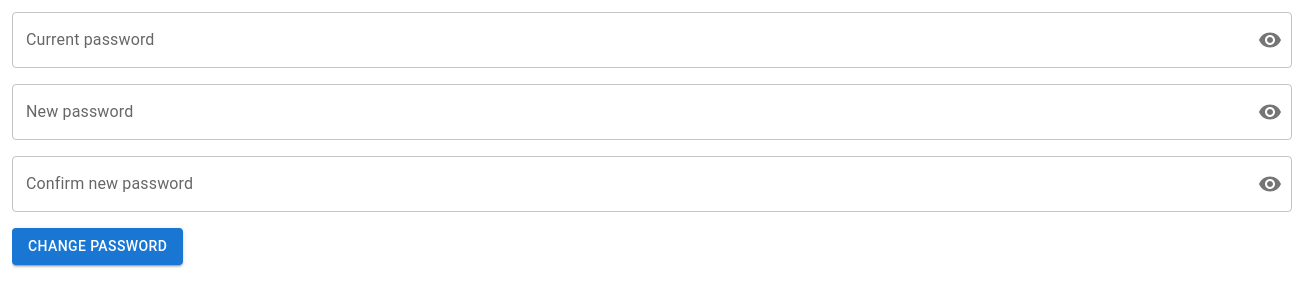
it: ChangePasswordForm › rejects a new password equal to the current one
The width and height of the screenshot is (1304, 307).
Type "same-password" into the password field labelled "Current password" at [627, 40], box 12,12 -> 1242,68
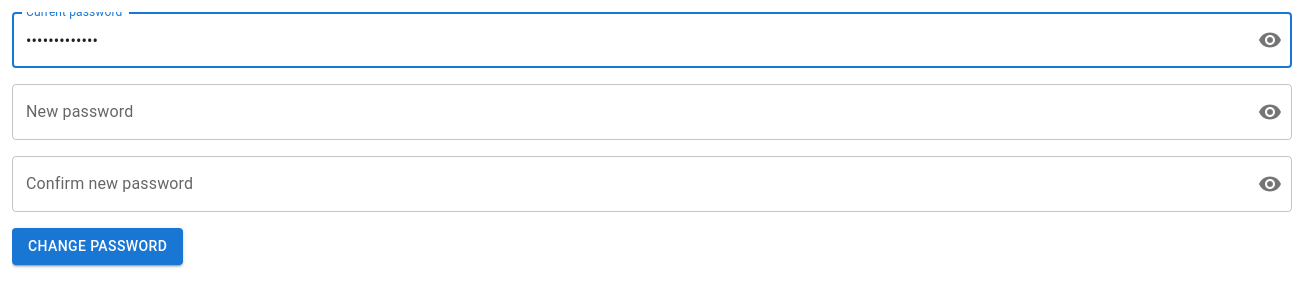
Type "same-password" into the password field labelled "New password" at [627, 112], box 12,84 -> 1242,140
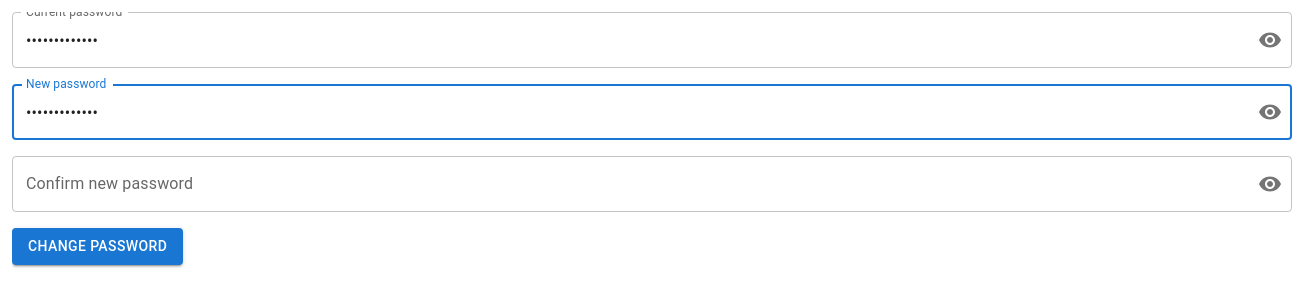
Type "same-password" into the password field labelled "Confirm new password" at [627, 184], box 12,156 -> 1242,212
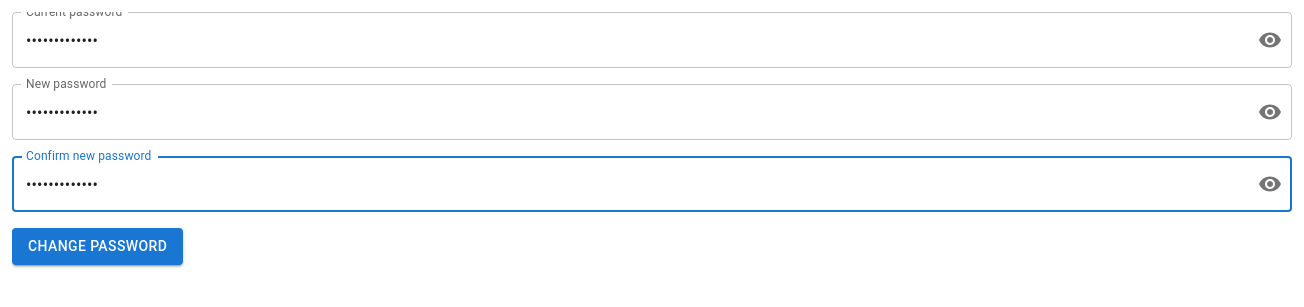
Click the button "Change password" at [98, 246], box 12,228 -> 183,264
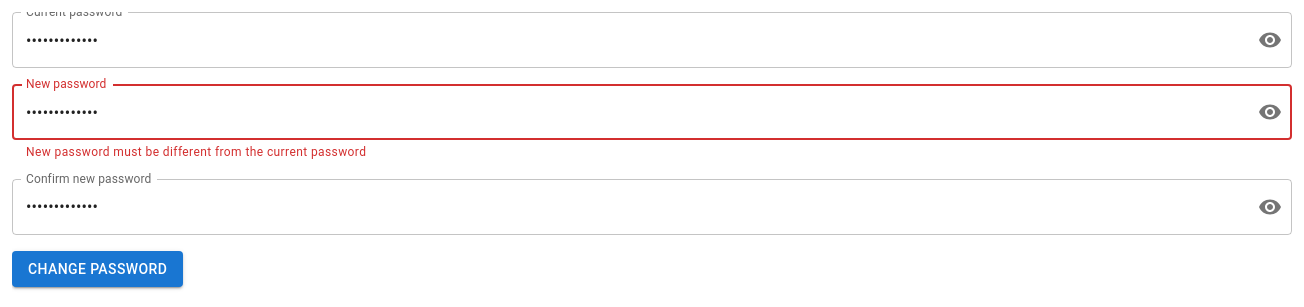
Now the text "New password must be different from the current password" is shown, box 26,145 -> 366,159
